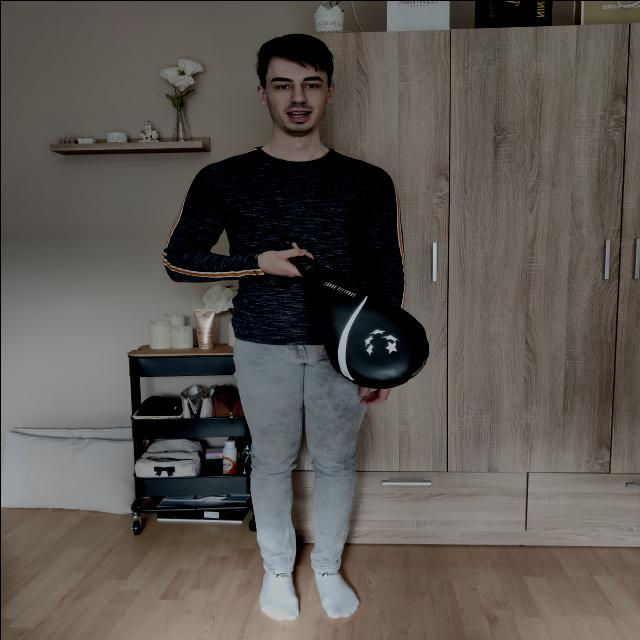paddle: (290, 255, 429, 387)
